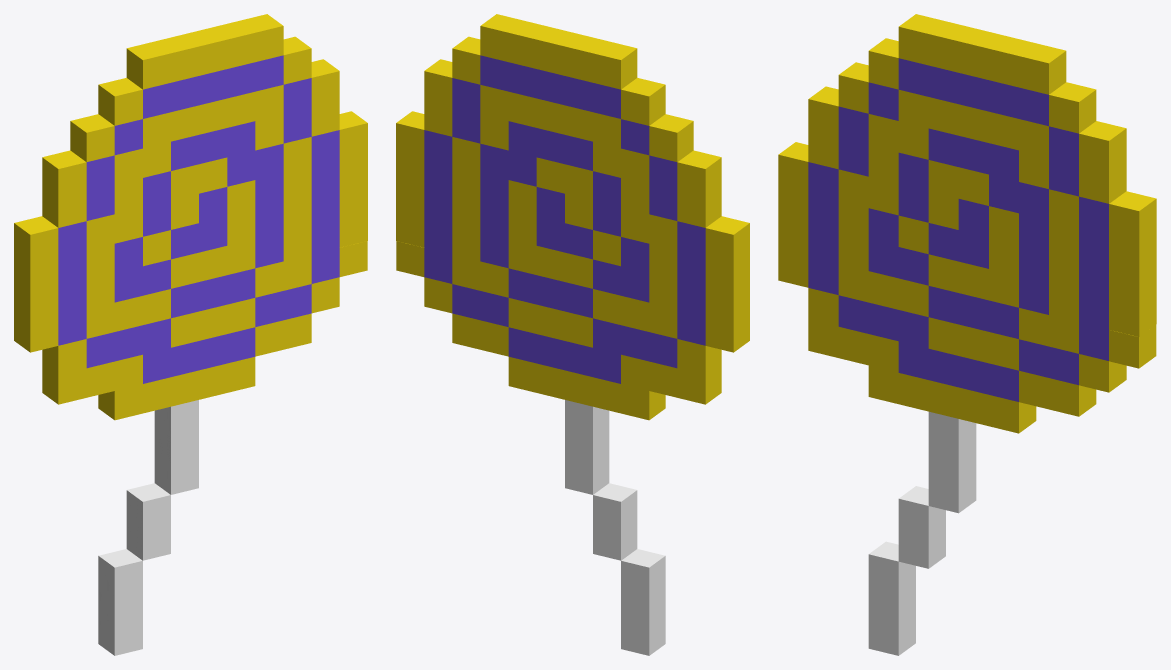
File: p_candy_voxel.fbx
The picture shows the model from 3 angles, left to right: view 1: azimuth 30°, elevation 25°; view 2: azimuth 150°, elevation 25°; view 3: azimuth 330°, elevation 25°; orthographic projection. The views are drawn at different scales.
Visible parts, largest first — view 1: Candy.089, Candy.074, Candy.109, Candy.117, Candy.121, Candy.100, Candy.086, Candy.118, Candy.058, Candy.059, Candy.088, Candy.073 (+110 smaller); view 2: Candy.089, Candy.074, Candy.109, Candy.117, Candy.121, Candy.100, Candy.086, Candy.118, Candy.058, Candy.059, Candy.088, Candy.073 (+110 smaller); view 3: Candy.012, Candy.004, Candy.033, Candy.022, Candy.074, Candy.089, Candy.058, Candy.059, Candy.073, Candy.122, Candy.001, Candy.087 (+110 smaller).
Boxes of the visible parts, x1,y1,x2,y2 form: Candy.089: (98,549,142,596); Candy.074: (126,483,170,531); Candy.109: (70,114,114,162); Candy.117: (42,150,86,198); Candy.121: (14,216,58,264); Candy.100: (98,78,142,125); Candy.086: (126,41,170,89); Candy.118: (14,311,58,352); Candy.058: (154,454,198,494); Candy.059: (154,424,198,465); Candy.088: (98,585,142,626); Candy.073: (126,520,170,560); Candy.089: (621,549,665,596); Candy.074: (593,483,637,531); Candy.109: (649,114,693,162); Candy.117: (677,150,721,198); Candy.121: (705,216,749,264); Candy.100: (621,78,665,125); Candy.086: (593,41,637,89); Candy.118: (705,311,749,352); Candy.058: (565,454,609,494); Candy.059: (565,424,609,465); Candy.088: (621,585,665,626); Candy.073: (593,520,637,560); Candy.012: (1079,121,1126,172); Candy.004: (1109,191,1156,242); Candy.033: (1019,43,1066,94); Candy.022: (1049,82,1096,133); Candy.074: (898,486,945,537); Candy.089: (868,541,915,592); Candy.058: (928,469,976,513); Candy.059: (928,438,976,481); Candy.073: (898,525,945,568); Candy.122: (1109,325,1156,368); Candy.001: (1109,293,1156,336); Candy.087: (868,612,915,655).
Bounding box in the file's own units: 1.2 × 1.99 × 0.0997.
